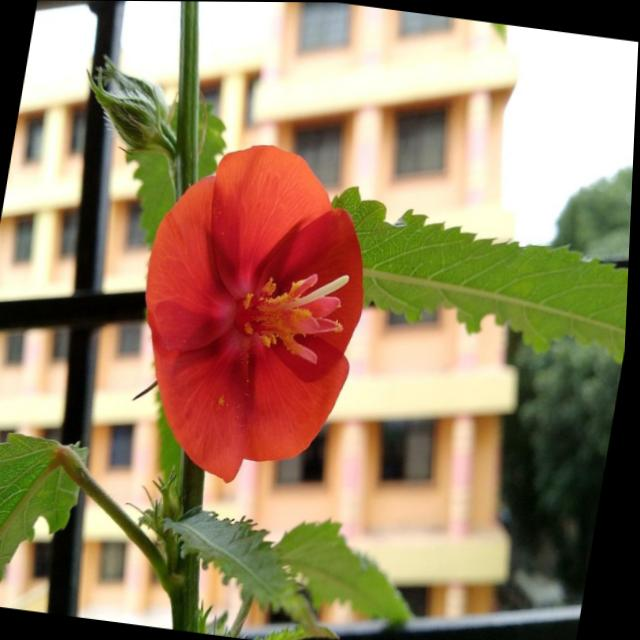Flower: (122, 131, 398, 489)
